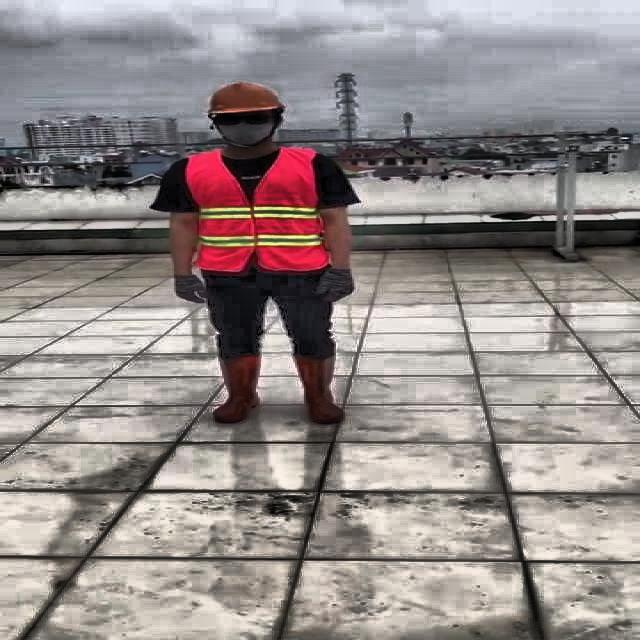safety_helmet: (200, 80, 284, 119)
safety_jacket: (184, 153, 326, 271)
